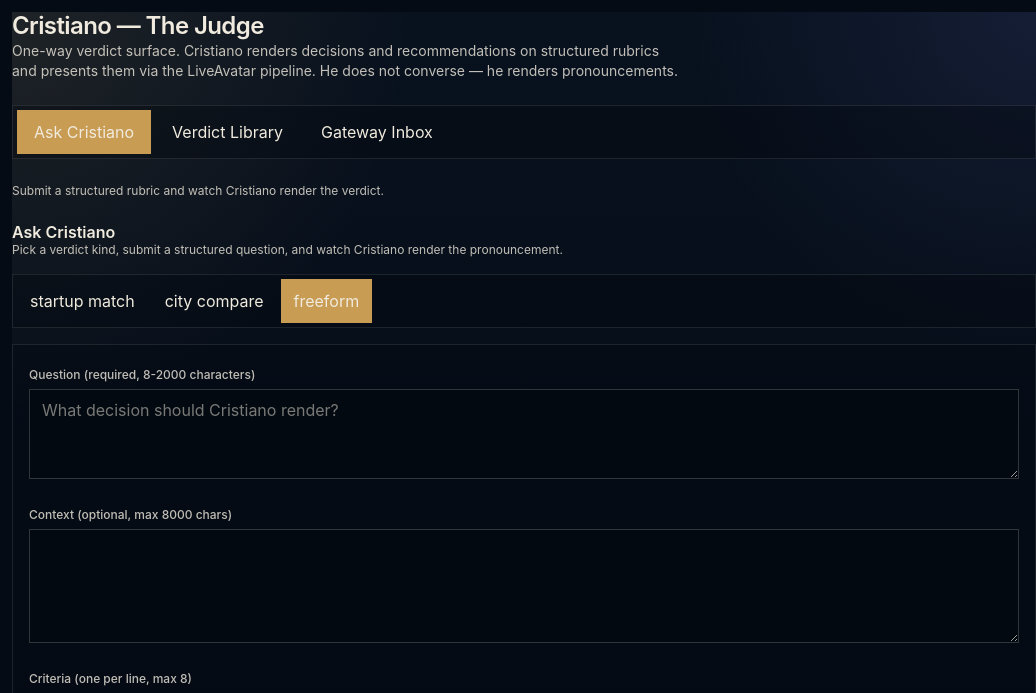
Test: CristianoDashboard — tab switching › switches to inbox tab when its button is clicked
Click the tab with test id "cristiano-dashboard-tab-inbox": (377, 132) [304, 110, 450, 154]
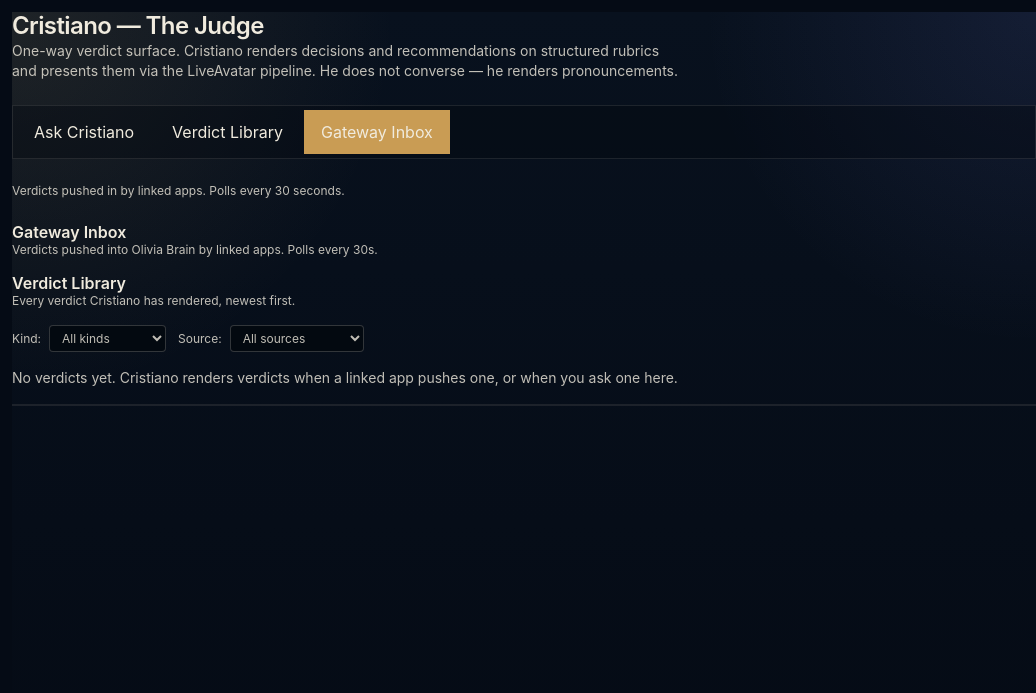
Expected: the element with test id "gateway-inbox" is shown, [12, 223, 1035, 406]
